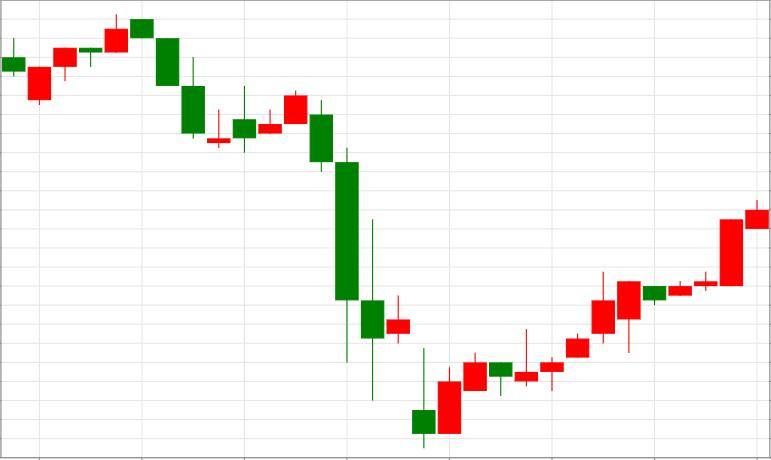inverse_hammer_rise: (284, 90, 435, 449)
three_black_crows_fall: (28, 15, 204, 140)
